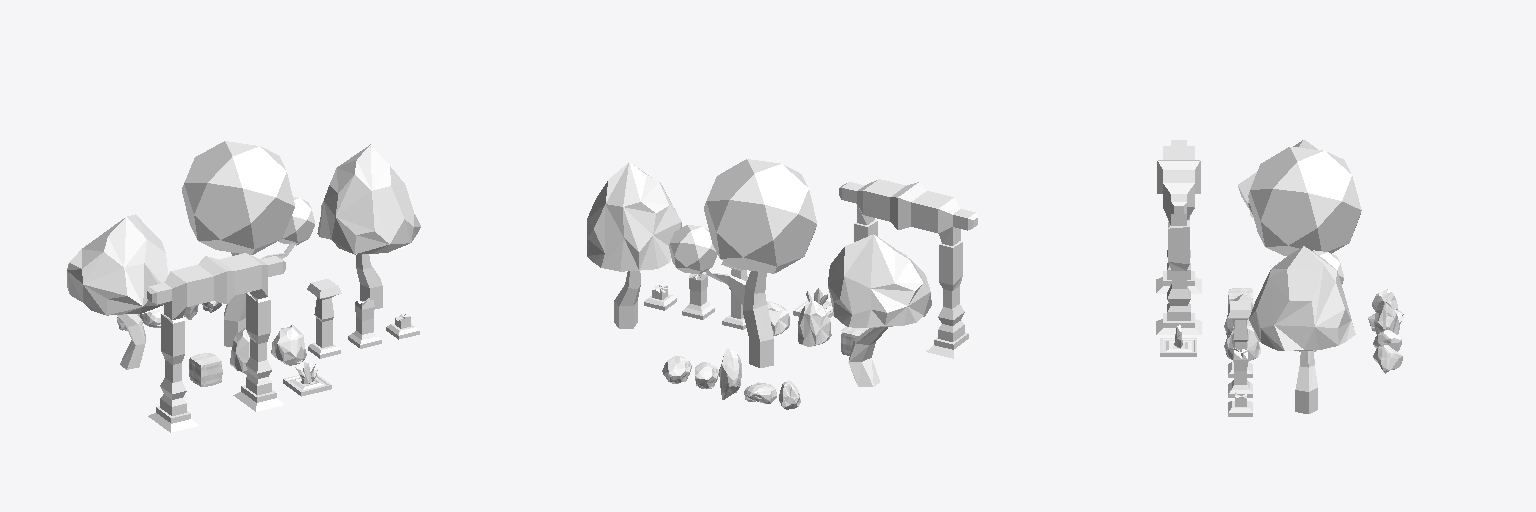
The model's file is puerta.obj.
The picture shows the model from 3 angles: view 1: azimuth 30°, elevation 25°; view 2: azimuth 150°, elevation 25°; view 3: azimuth 270°, elevation 25°; orthographic projection.
Visible parts, largest first — view 1: Rock1:TREES, pCube2, Rock1:Copa1, Rock1:Pilar, Rock1:Arbusto1, Rock1:ICE, Rock1:TREE3, Rock1:Arbusto, pCube3, Rock1:ROCKS; view 2: Rock1:TREES, pCube2, Rock1:Copa1, Rock1:ROCKS, Rock1:Pilar, Rock1:TREE3, Rock1:Arbusto, Rock1:Arbusto1, Rock1:Rock_3; view 3: Rock1:TREES, pCube2, Rock1:Pilar, Rock1:ROCKS, pCube3, Rock1:Arbusto1.
Boxes of the visible parts, x1,y1,x2,y2 form: Rock1:TREES: [182, 141, 420, 346]; pCube2: [147, 253, 285, 432]; Rock1:Copa1: [67, 214, 167, 315]; Rock1:Pilar: [307, 279, 419, 358]; Rock1:Arbusto1: [271, 324, 306, 365]; Rock1:ICE: [189, 353, 222, 386]; Rock1:TREE3: [117, 314, 145, 369]; Rock1:Arbusto: [230, 328, 249, 374]; pCube3: [283, 374, 331, 396]; Rock1:ROCKS: [117, 304, 198, 330]; Rock1:TREES: [587, 159, 816, 367]; pCube2: [839, 179, 977, 358]; Rock1:Copa1: [828, 234, 931, 327]; Rock1:ROCKS: [662, 349, 800, 409]; Rock1:Pilar: [644, 261, 747, 329]; Rock1:TREE3: [848, 327, 887, 386]; Rock1:Arbusto: [798, 299, 831, 346]; Rock1:Arbusto1: [767, 301, 789, 335]; Rock1:Rock_3: [695, 362, 718, 388]; Rock1:TREES: [1248, 147, 1361, 413]; pCube2: [1156, 140, 1201, 334]; Rock1:Pilar: [1228, 301, 1252, 416]; Rock1:ROCKS: [1368, 289, 1403, 373]; pCube3: [1160, 338, 1196, 356]; Rock1:Arbusto1: [1224, 326, 1260, 361].
Size of the model in its own units: 42.22 by 24.26 by 26.99.